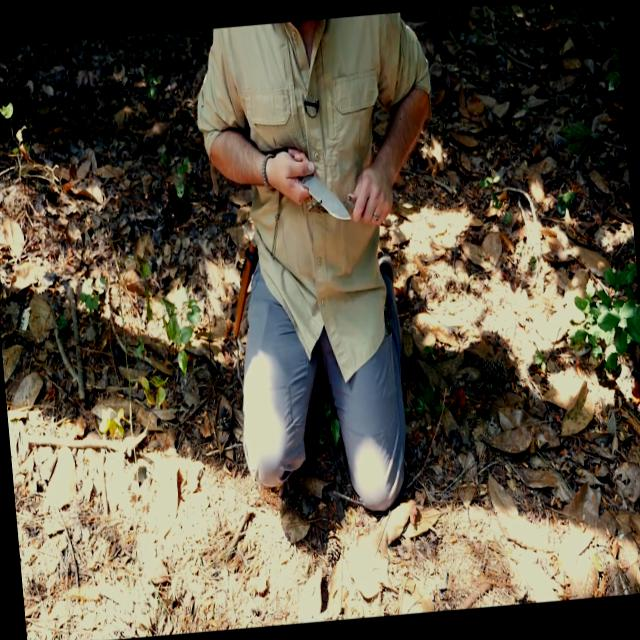knife: (266, 141, 353, 232)
